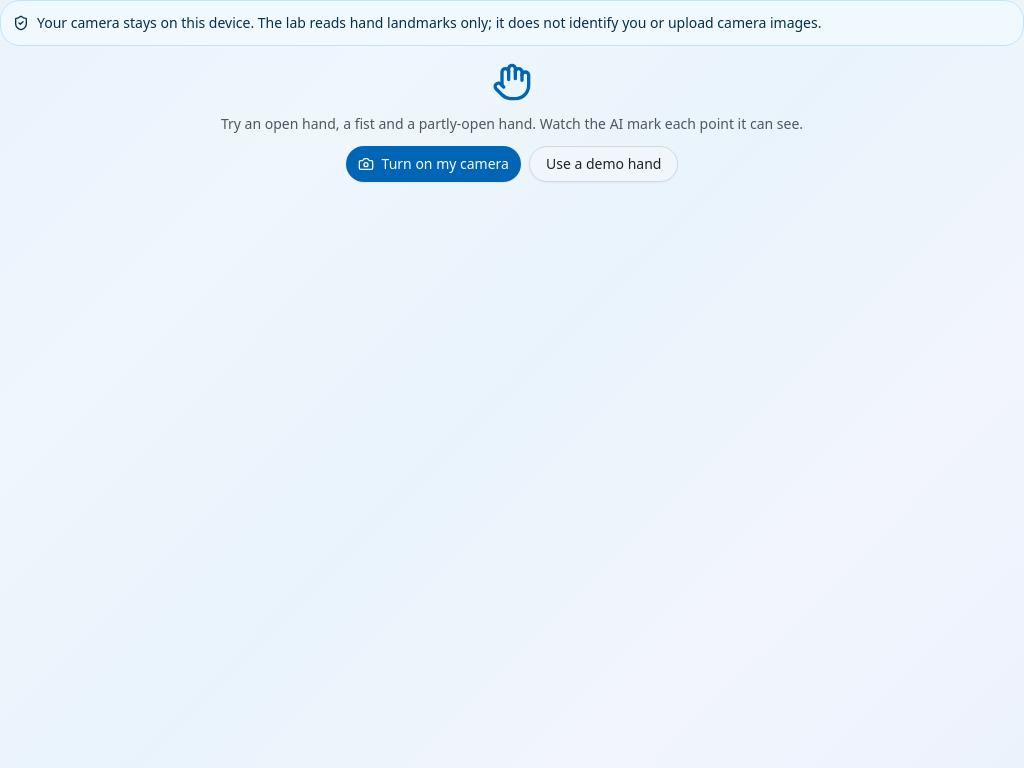
HandPoseLab › offers a camera-free demo that can complete the play requirement
Click the button "Use a demo hand". click: click(604, 164)
box: top-left (529, 146), bottom-right (678, 182)
(page scrolled)
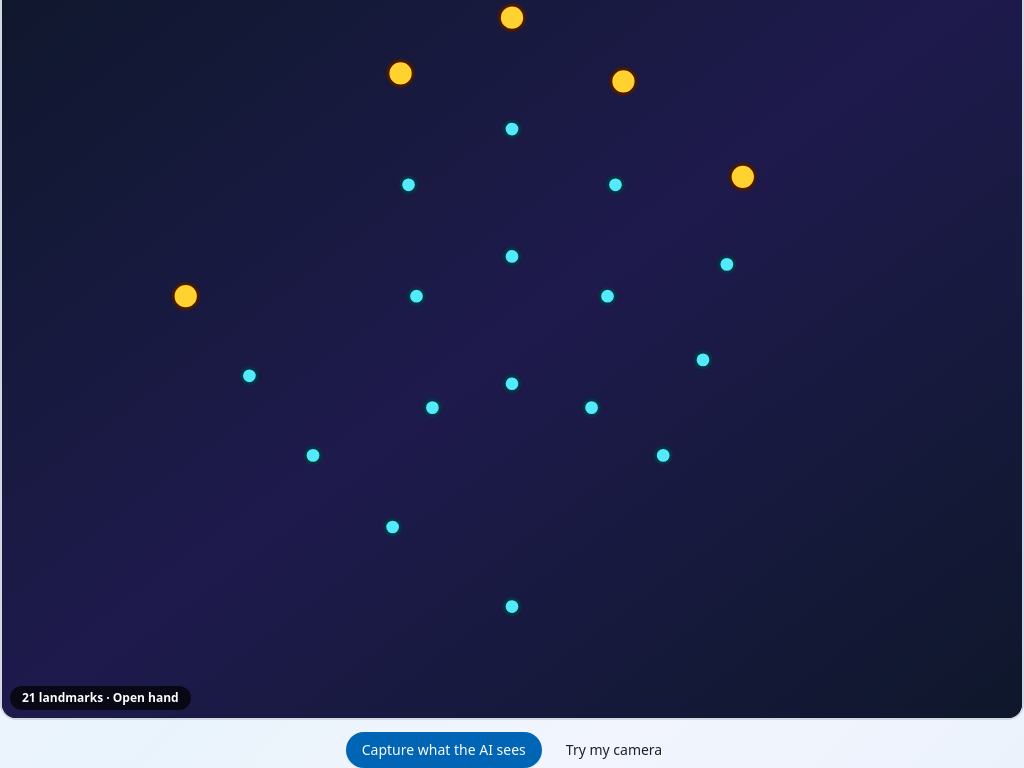
Expected: the text "21 landmarks · Open hand" is shown, top-left (10, 686), bottom-right (191, 710)
Click the button "Capture what the AI sees". click: click(444, 750)
box: top-left (346, 732), bottom-right (542, 767)
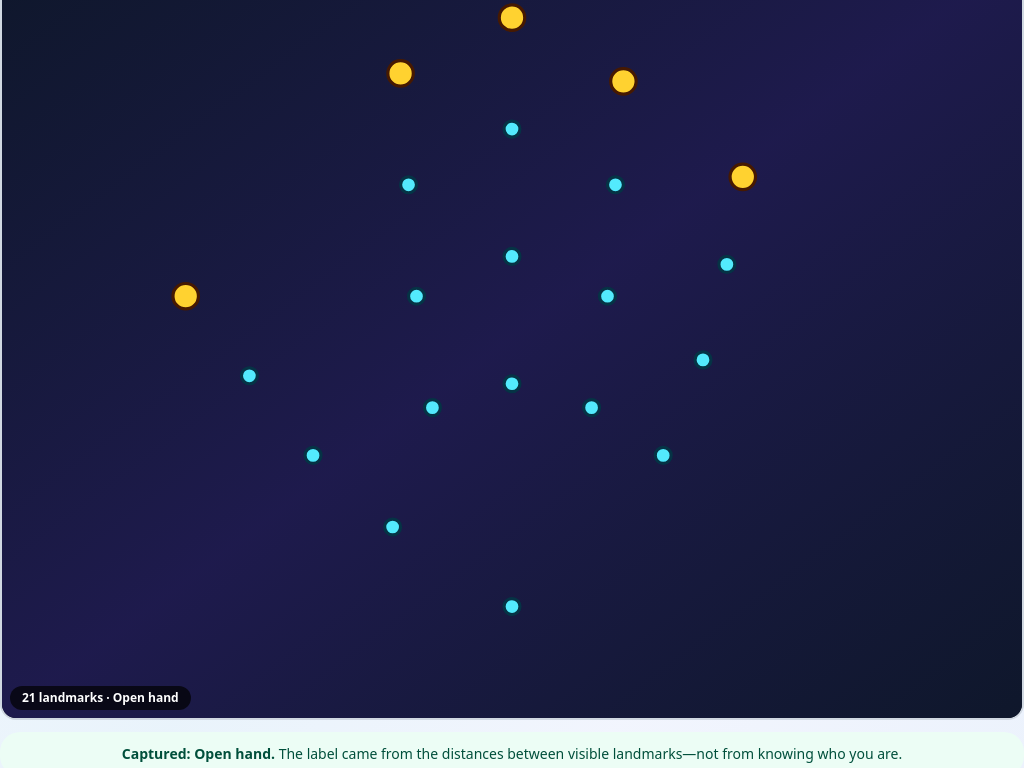
Expected: the text "Captured: Open hand." is shown, top-left (122, 744), bottom-right (275, 763)
